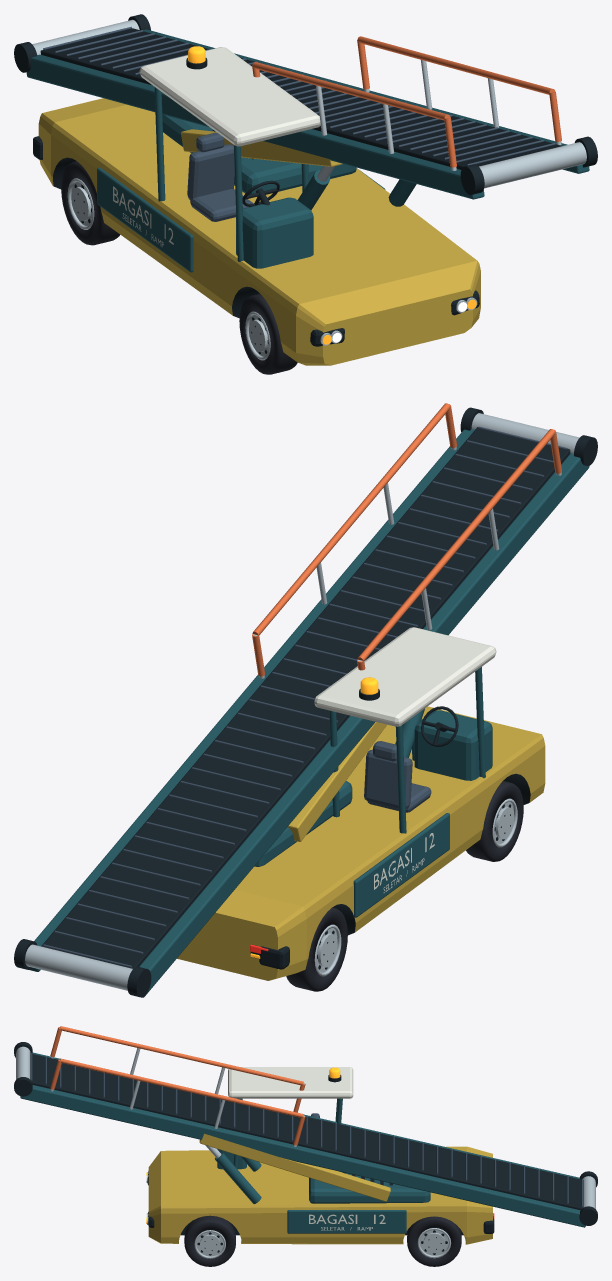
3 renders of one model, top to bottom at view 1: azimuth 30°, elevation 25°; view 2: azimuth 150°, elevation 25°; view 3: azimuth 270°, elevation 25°, orthographic. The views are drawn at different scales.
Visible parts, largest first — view 1: Seletar Apron Baggage Belt Loader; view 2: Seletar Apron Baggage Belt Loader; view 3: Seletar Apron Baggage Belt Loader.
Boxes of the visible parts, x1=… form: Seletar Apron Baggage Belt Loader: x1=14, y1=14, x2=597, y2=374; Seletar Apron Baggage Belt Loader: x1=14, y1=403, x2=597, y2=997; Seletar Apron Baggage Belt Loader: x1=14, y1=1026, x2=597, y2=1266.
Bounding box in the file's own units: 1.89 × 3.01 × 7.69.
